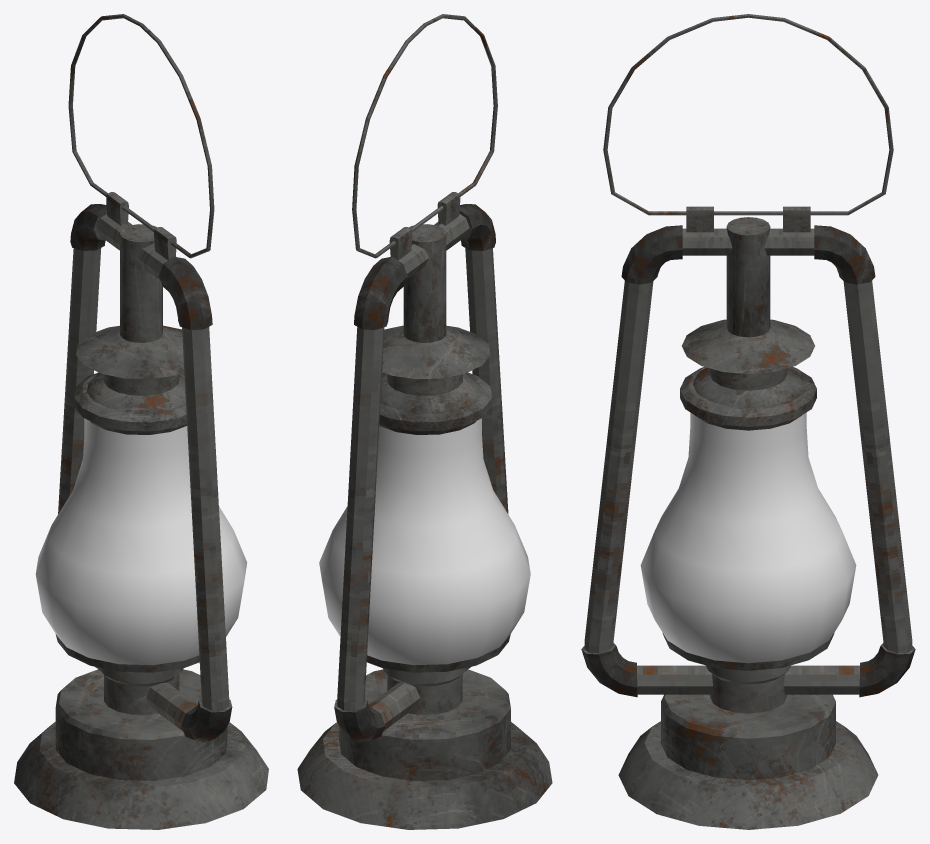
The model's file is lantern.glb.
The picture shows the model from 3 angles, left to right: view 1: azimuth 30°, elevation 25°; view 2: azimuth 150°, elevation 25°; view 3: azimuth 270°, elevation 25°; orthographic projection.
Visible parts, largest first — view 1: tank, glass, guard, handle; view 2: tank, glass, guard, handle; view 3: tank, glass, guard, handle.
Part boxes in pixels (x1=…): tank: x1=14, y1=224, x2=268, y2=829; glass: x1=35, y1=418, x2=247, y2=665; guard: x1=58, y1=192, x2=232, y2=742; handle: x1=68, y1=14, x2=214, y2=258; tank: x1=297, y1=224, x2=552, y2=829; glass: x1=319, y1=418, x2=530, y2=665; guard: x1=334, y1=192, x2=508, y2=742; handle: x1=352, y1=14, x2=497, y2=258; tank: x1=618, y1=217, x2=878, y2=829; glass: x1=640, y1=412, x2=856, y2=663; guard: x1=581, y1=206, x2=915, y2=697; handle: x1=603, y1=14, x2=893, y2=215.
Bounding box in the file's own units: 0.2208 × 0.713 × 0.2838.
Materials: 2 (1 with a texture image).
